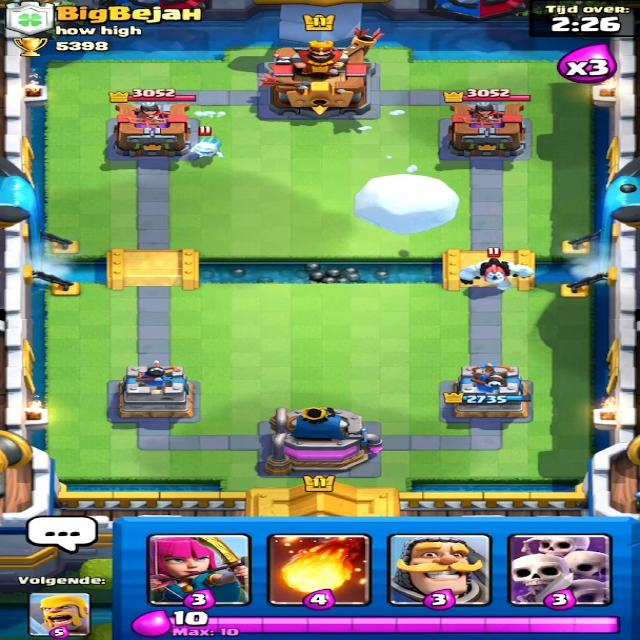Enemy_Ice_Golem_Troop: (443, 254, 543, 294)
Enemy_Ice_Spirit_Troop: (182, 132, 229, 158)
Enemy_Snowball_Troop: (356, 168, 458, 233)
Fireball_Card: (261, 534, 376, 610)
